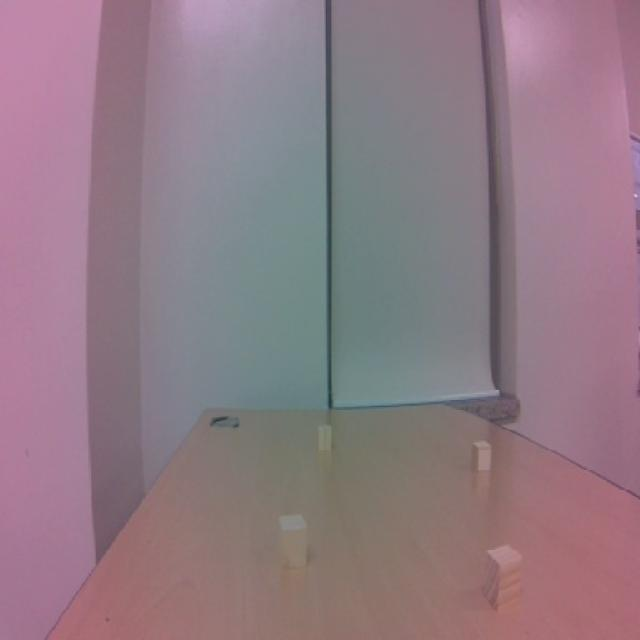obstacle: (472, 534, 541, 619), (268, 507, 314, 577)
